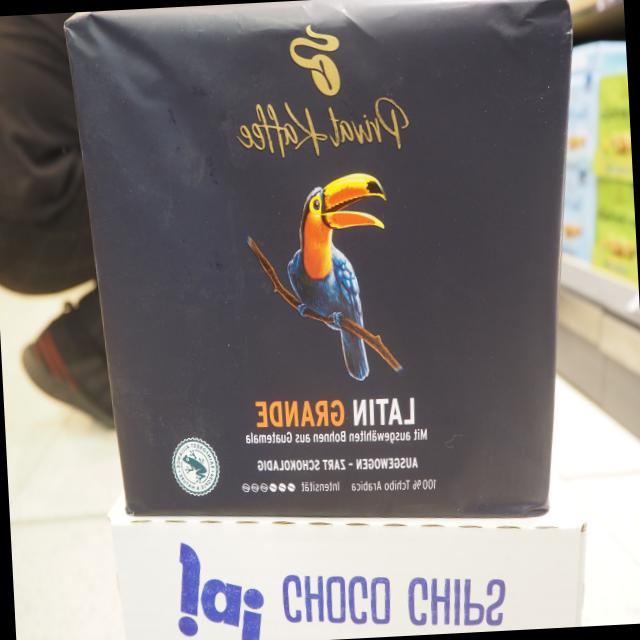LG Gemahlen: (58, 0, 578, 523)
